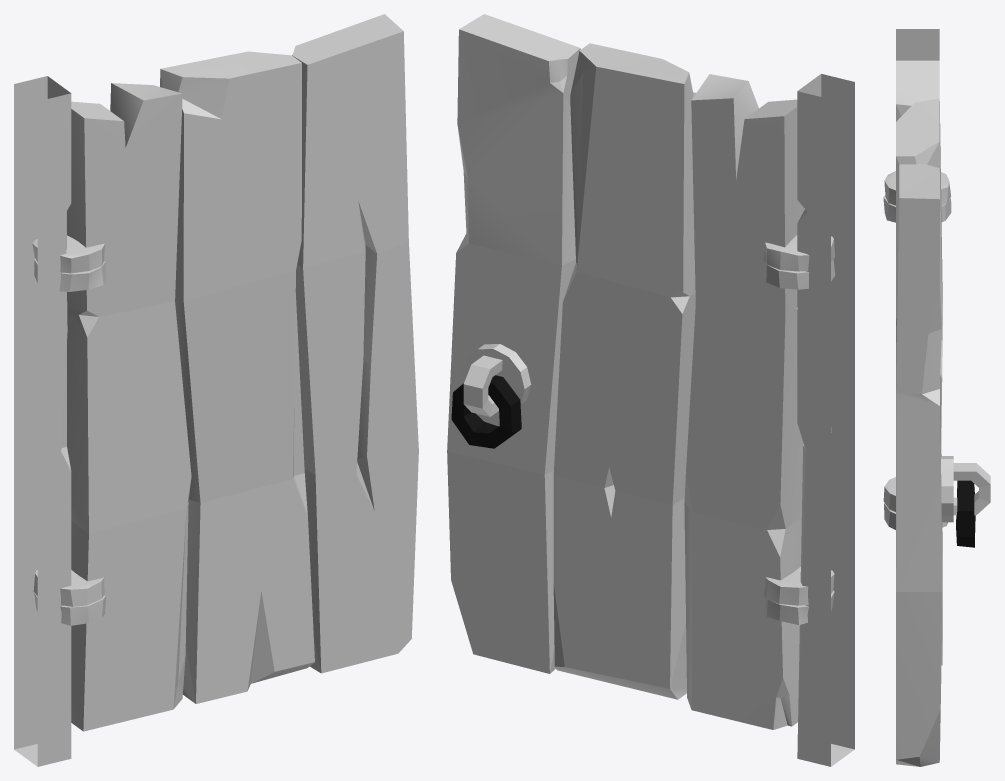
The model's file is NGF_Env_Door_attachment_03.fbx.
3 views of the same model, side by side, from view 1: azimuth 30°, elevation 25°; view 2: azimuth 150°, elevation 25°; view 3: azimuth 270°, elevation 25° (orthographic). The views are drawn at different scales.
Visible parts, largest first — view 1: NGF_Env_Door_06, NGF_Env_Door_attachment_03, NGF_Env_Hinges_11, NGF_Env_Hinges_09; view 2: NGF_Env_Door_06, NGF_Env_Door_attachment_03, NGF_Env_Handle_attachment_06, NGF_Env_Handle_06, NGF_Env_Hinges_11, NGF_Env_Hinges_09; view 3: NGF_Env_Door_06, NGF_Env_Handle_attachment_06, NGF_Env_Door_attachment_03, NGF_Env_Handle_06, NGF_Env_Hinges_11, NGF_Env_Hinges_09.
Boxes of the visible parts, bbox=[...] form: NGF_Env_Door_06: bbox=[67, 14, 418, 731]; NGF_Env_Door_attachment_03: bbox=[14, 76, 71, 766]; NGF_Env_Hinges_11: bbox=[32, 235, 104, 606]; NGF_Env_Hinges_09: bbox=[34, 258, 106, 625]; NGF_Env_Door_06: bbox=[447, 14, 804, 729]; NGF_Env_Door_attachment_03: bbox=[797, 73, 854, 766]; NGF_Env_Handle_attachment_06: bbox=[462, 344, 531, 416]; NGF_Env_Handle_06: bbox=[451, 375, 521, 448]; NGF_Env_Hinges_11: bbox=[763, 235, 834, 605]; NGF_Env_Hinges_09: bbox=[764, 259, 835, 624]; NGF_Env_Door_06: bbox=[896, 60, 942, 766]; NGF_Env_Handle_attachment_06: bbox=[941, 456, 990, 522]; NGF_Env_Door_attachment_03: bbox=[896, 29, 939, 121]; NGF_Env_Handle_06: bbox=[956, 480, 975, 547]; NGF_Env_Hinges_11: bbox=[883, 171, 950, 511]; NGF_Env_Hinges_09: bbox=[883, 195, 951, 529].
Size of the model in its own units: 1.58 by 2.64 by 0.4188.
Materials: 1 (1 with a texture image).
